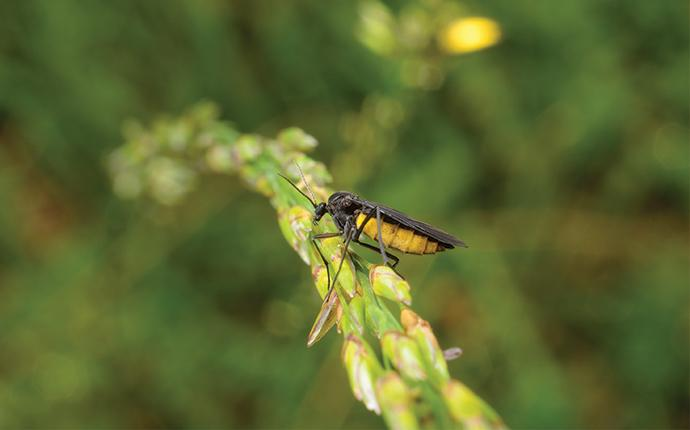Fruit fly: (309, 172, 472, 299)
